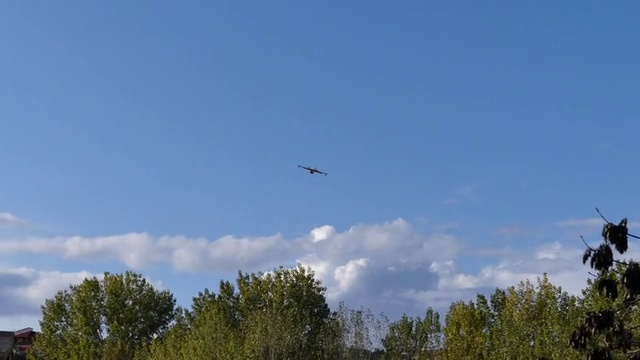plane: (296, 162, 328, 176)
